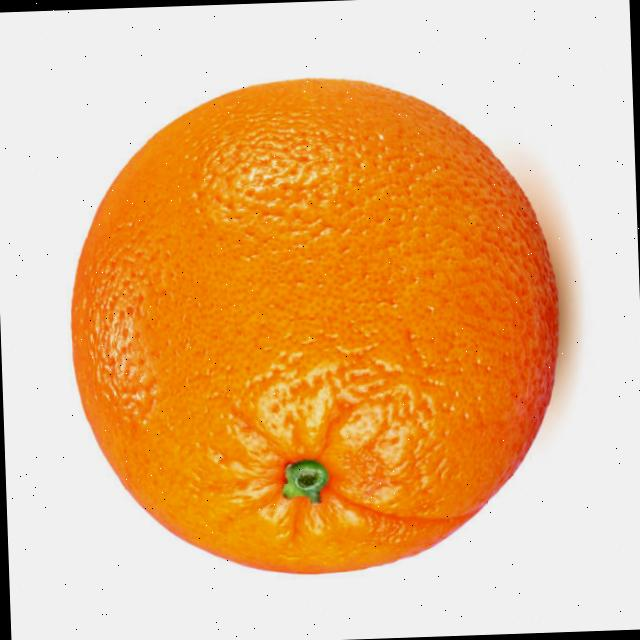Ripe: (59, 63, 568, 582)
